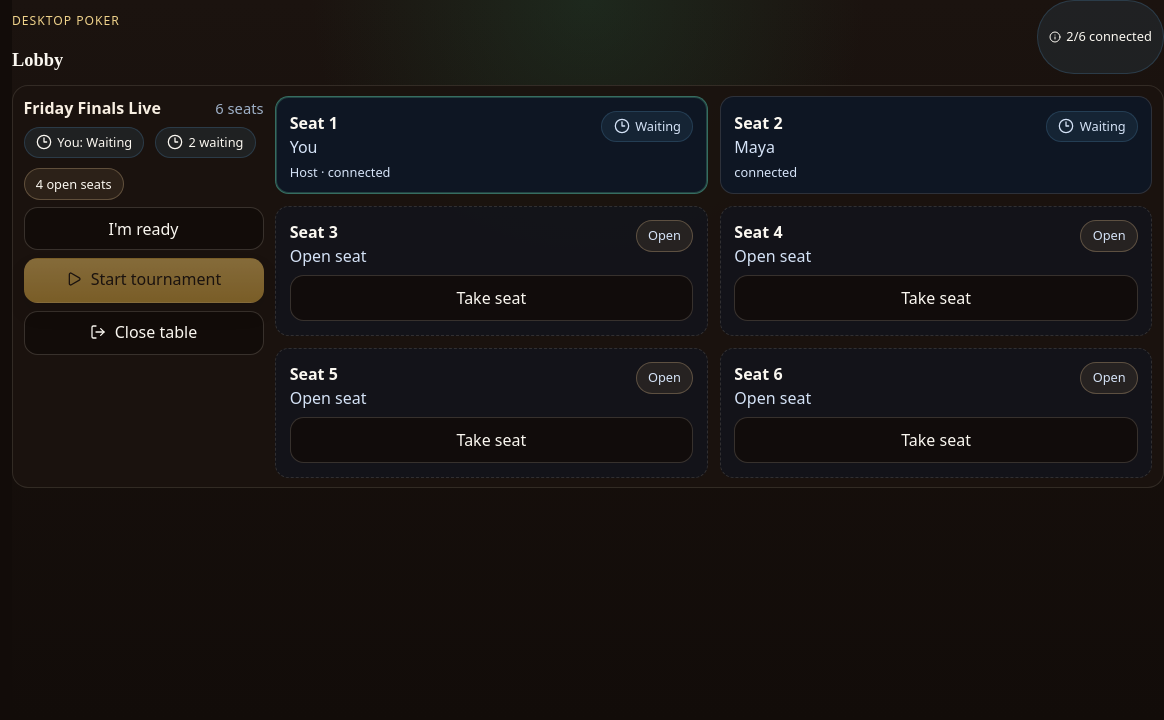
Test: TournamentLobbyScreen › does not claim ready before server confirmation or after a rejected request
Expected: the text "You: Waiting" is shown, [24,127,144,158]
Step 1. Click the button "I'm ready" → (144, 229), box [24,207,264,250]
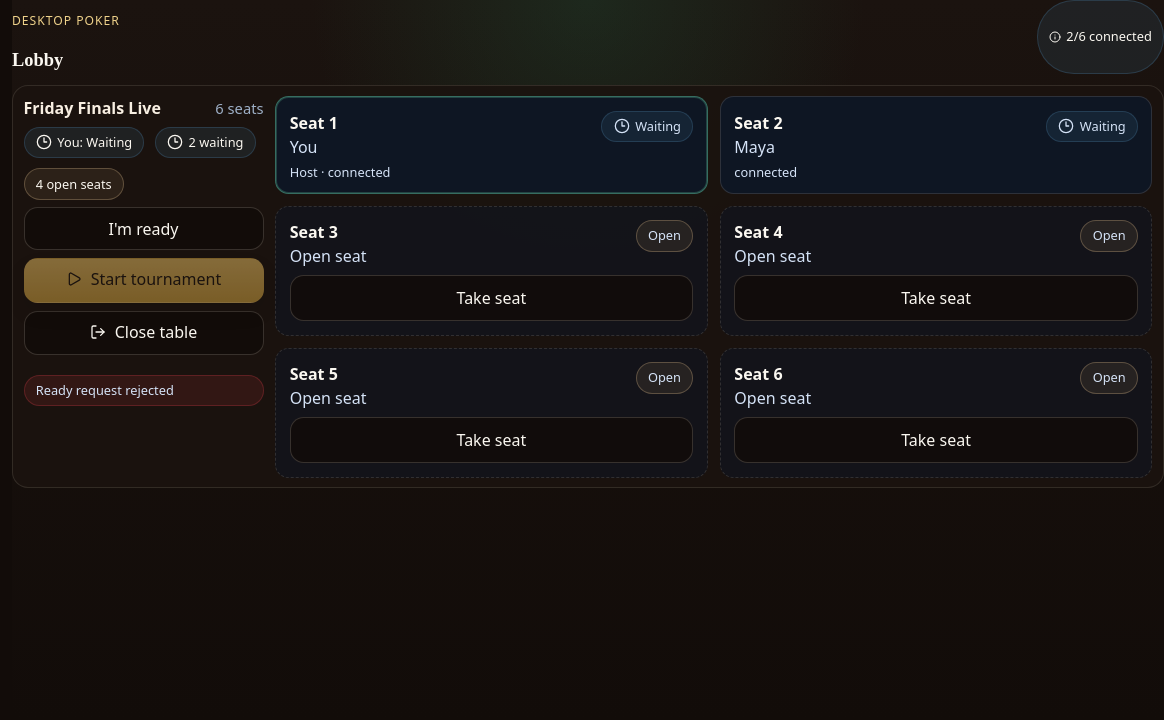
Expected: the text "You: Waiting" is shown, [24,127,144,158]
Expected: the text "Ready request rejected" is shown, [24,375,264,406]
